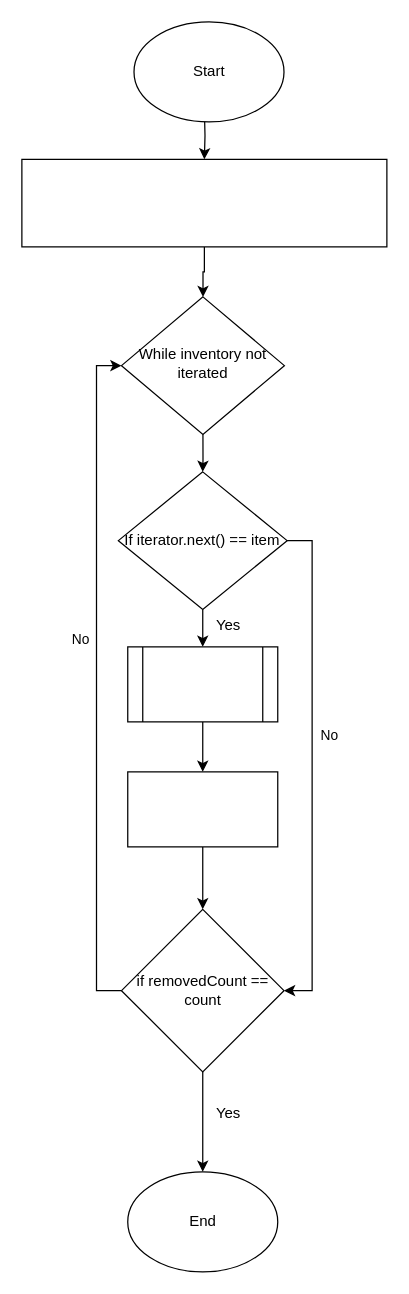
The diagram is 409 pixels wide and 1294 high, and some of its shapes have lost their labels. The centre of each missing label's shape, as x and y in pixels:
declare removedCount = 0; declare iterator = inventory.iterator();: (x=204, y=202)
increment removedCount by 1: (x=202, y=809)
remove from inventory: (x=202, y=684)
